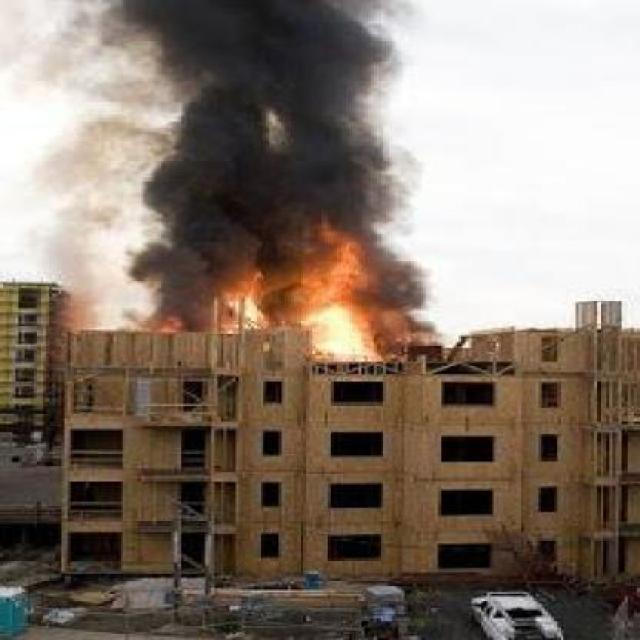Fire: (184, 254, 410, 386)
Smoke: (55, 0, 438, 231)
